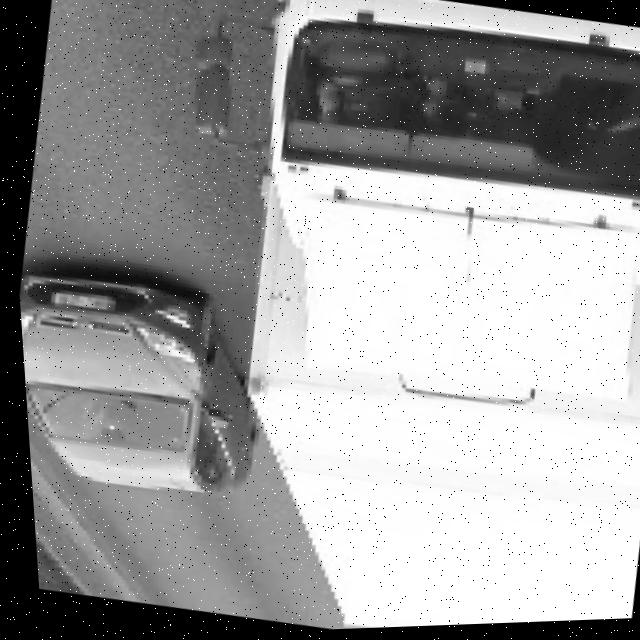truck: (179, 1, 640, 434)
